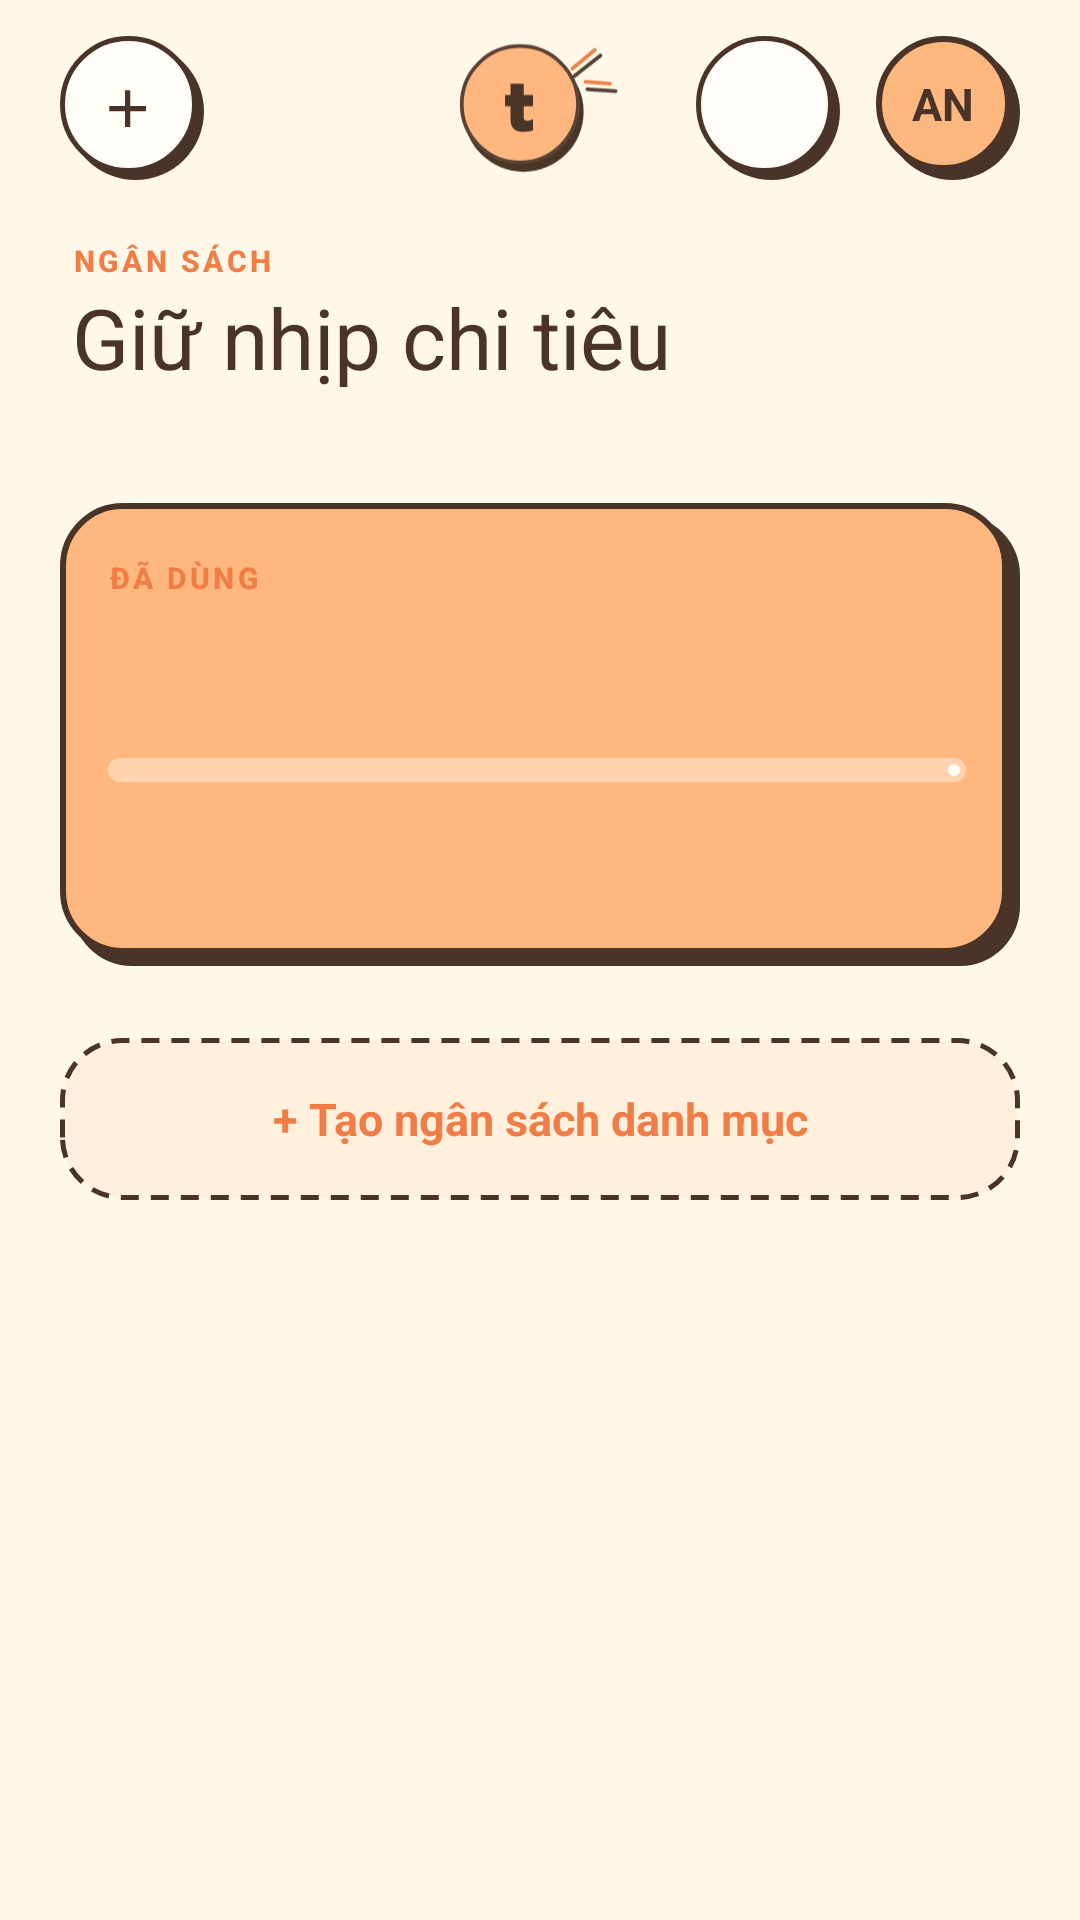

Named icons in this screenshot (1080 × 1920) and their centers, [x,y]:
Thêm khoản chi: [132,108]
